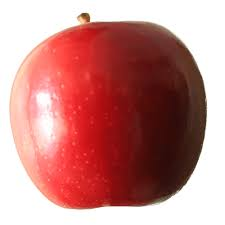apple: (10, 13, 207, 211)
